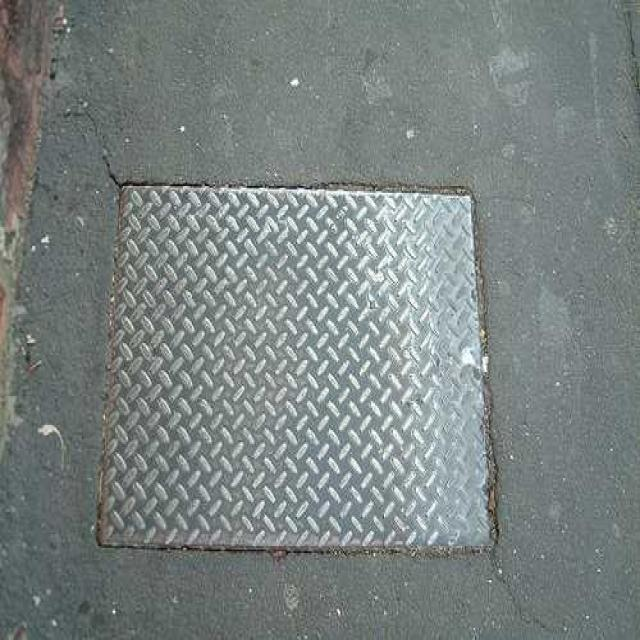manhole: (93, 183, 497, 560)
